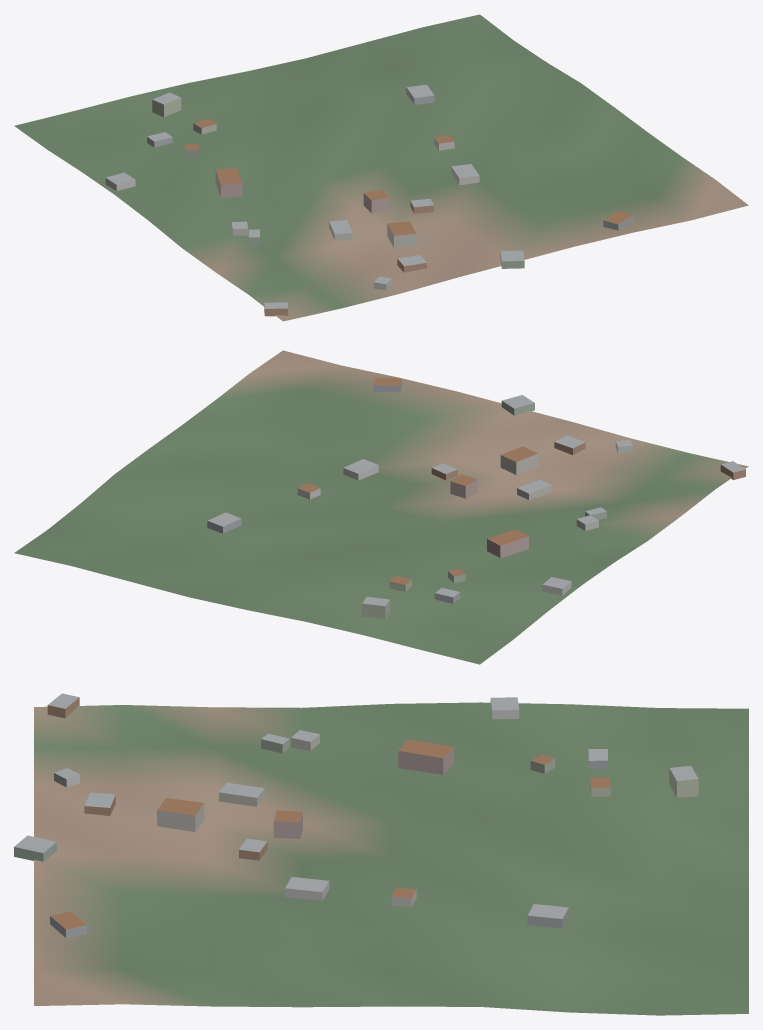
3 views of the same model, one above another, from view 1: azimuth 30°, elevation 25°; view 2: azimuth 150°, elevation 25°; view 3: azimuth 270°, elevation 25° (orthographic). The views are drawn at different scales.
Parts seen in each view (by area): view 1: Lo; view 2: Lo; view 3: Lo.
Boxes of the visible parts, x1,y1,x2,y2 form: Lo: (14, 14, 748, 321); Lo: (14, 350, 748, 664); Lo: (14, 693, 748, 1015).
Size of the model in its own units: 260 by 10.02 by 263.
